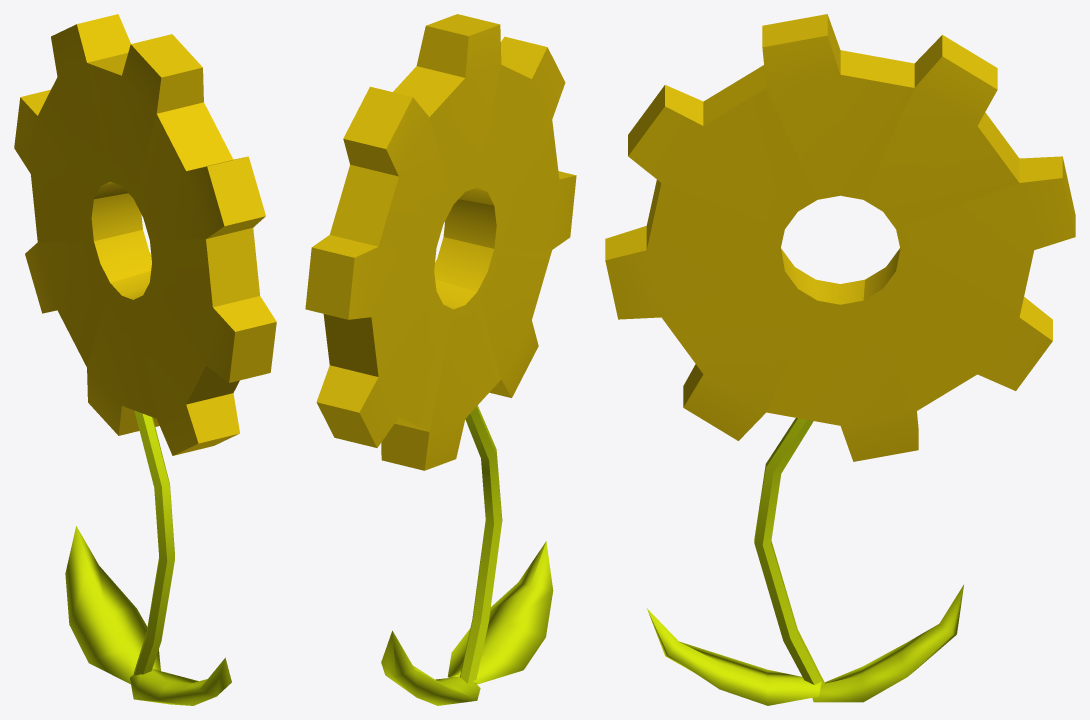
Rendered from flower5.fbx.
3 views of the same model, side by side, from view 1: azimuth 30°, elevation 25°; view 2: azimuth 150°, elevation 25°; view 3: azimuth 270°, elevation 25° (orthographic). The views are drawn at different scales.
Visible parts, largest first — view 1: pCylinder206, pCylinder213, pCylinder212, pCylinder207, pCylinder211, pCylinder210, pCylinder209, pCylinder208, pPyramid3, pCylinder317, pPyramid4; view 2: pCylinder211, pCylinder210, pCylinder212, pCylinder209, pCylinder208, pCylinder207, pCylinder206, pCylinder213, pPyramid4, pCylinder317, pPyramid3; view 3: pCylinder212, pCylinder213, pCylinder211, pCylinder210, pCylinder209, pCylinder206, pCylinder208, pCylinder207, pCylinder317, pPyramid4, pPyramid3.
Boxes of the visible parts, bbox=[...] form: pCylinder206: bbox=[150, 228, 276, 382]; pCylinder213: bbox=[133, 102, 265, 240]; pCylinder212: bbox=[87, 34, 203, 198]; pCylinder207: bbox=[133, 282, 239, 455]; pCylinder211: bbox=[38, 14, 130, 199]; pCylinder210: bbox=[14, 89, 142, 242]; pCylinder209: bbox=[25, 230, 151, 366]; pCylinder208: bbox=[87, 271, 159, 435]; pPyramid3: bbox=[65, 526, 160, 684]; pCylinder317: bbox=[133, 410, 174, 675]; pPyramid4: bbox=[130, 657, 231, 705]; pCylinder211: bbox=[329, 86, 453, 247]; pCylinder210: bbox=[305, 235, 436, 376]; pCylinder212: bbox=[393, 14, 501, 204]; pCylinder209: bbox=[316, 291, 453, 447]; pCylinder208: bbox=[381, 279, 501, 470]; pCylinder207: bbox=[434, 237, 551, 397]; pCylinder206: bbox=[443, 120, 576, 249]; pCylinder213: bbox=[459, 36, 565, 205]; pPyramid4: bbox=[447, 541, 553, 684]; pCylinder317: bbox=[460, 405, 502, 686]; pPyramid3: bbox=[381, 630, 480, 705]; pCylinder212: bbox=[762, 14, 914, 199]; pCylinder213: bbox=[628, 65, 817, 229]; pCylinder211: bbox=[863, 35, 1019, 229]; pCylinder210: bbox=[896, 156, 1075, 317]; pCylinder209: bbox=[863, 248, 1052, 412]; pCylinder206: bbox=[605, 180, 784, 319]; pCylinder208: bbox=[766, 279, 918, 461]; pCylinder207: bbox=[661, 248, 817, 440]; pCylinder317: bbox=[754, 418, 824, 685]; pPyramid4: bbox=[647, 608, 821, 705]; pPyramid3: bbox=[812, 585, 963, 702].
Size of the model in its own units: 0.4429 by 3.88 by 2.43.
